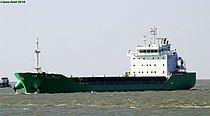Ship: (10, 23, 200, 96)
